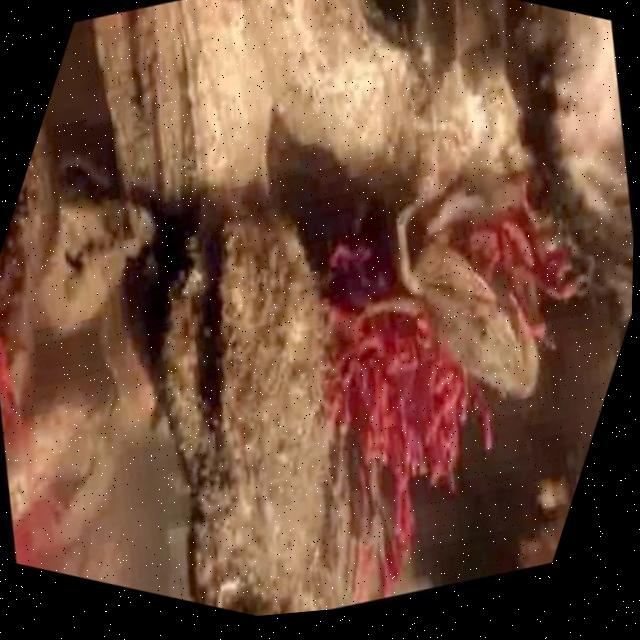Oyster-Indeterminate: (507, 0, 633, 319)
Oyster-Open: (162, 215, 322, 616)
